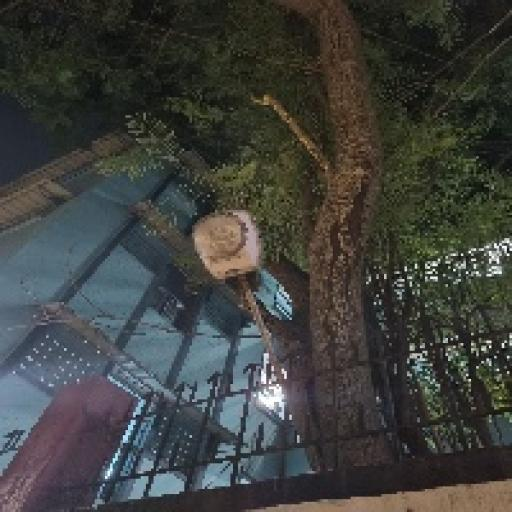Not Working: (176, 194, 275, 296)
